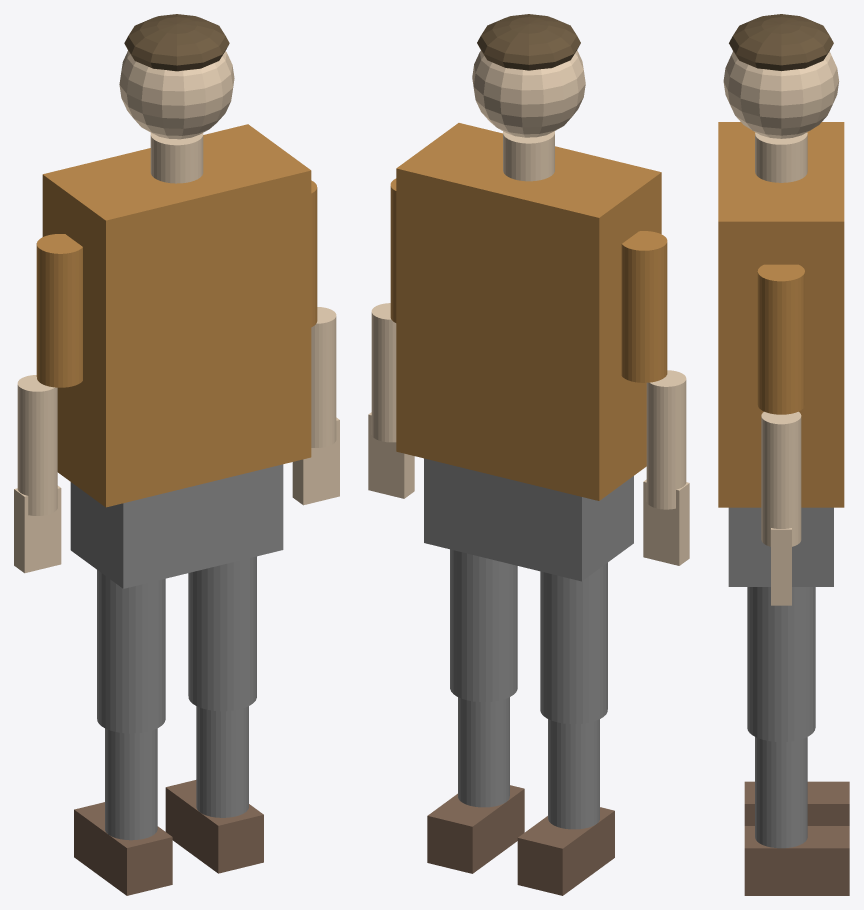
Rendered from char_player_male_placeholder.gltf.
The picture shows the model from 3 angles, left to right: view 1: azimuth 30°, elevation 25°; view 2: azimuth 150°, elevation 25°; view 3: azimuth 270°, elevation 25°; orthographic projection.
Parts seen in each view (by area): view 1: char_player_male_placeholder; view 2: char_player_male_placeholder; view 3: char_player_male_placeholder.
Boxes of the visible parts, bbox=[...] form: char_player_male_placeholder: bbox=[14, 14, 339, 895]; char_player_male_placeholder: bbox=[368, 14, 689, 895]; char_player_male_placeholder: bbox=[718, 14, 849, 895].
Bounding box in the file's own units: 0.69 × 1.76 × 0.25.
